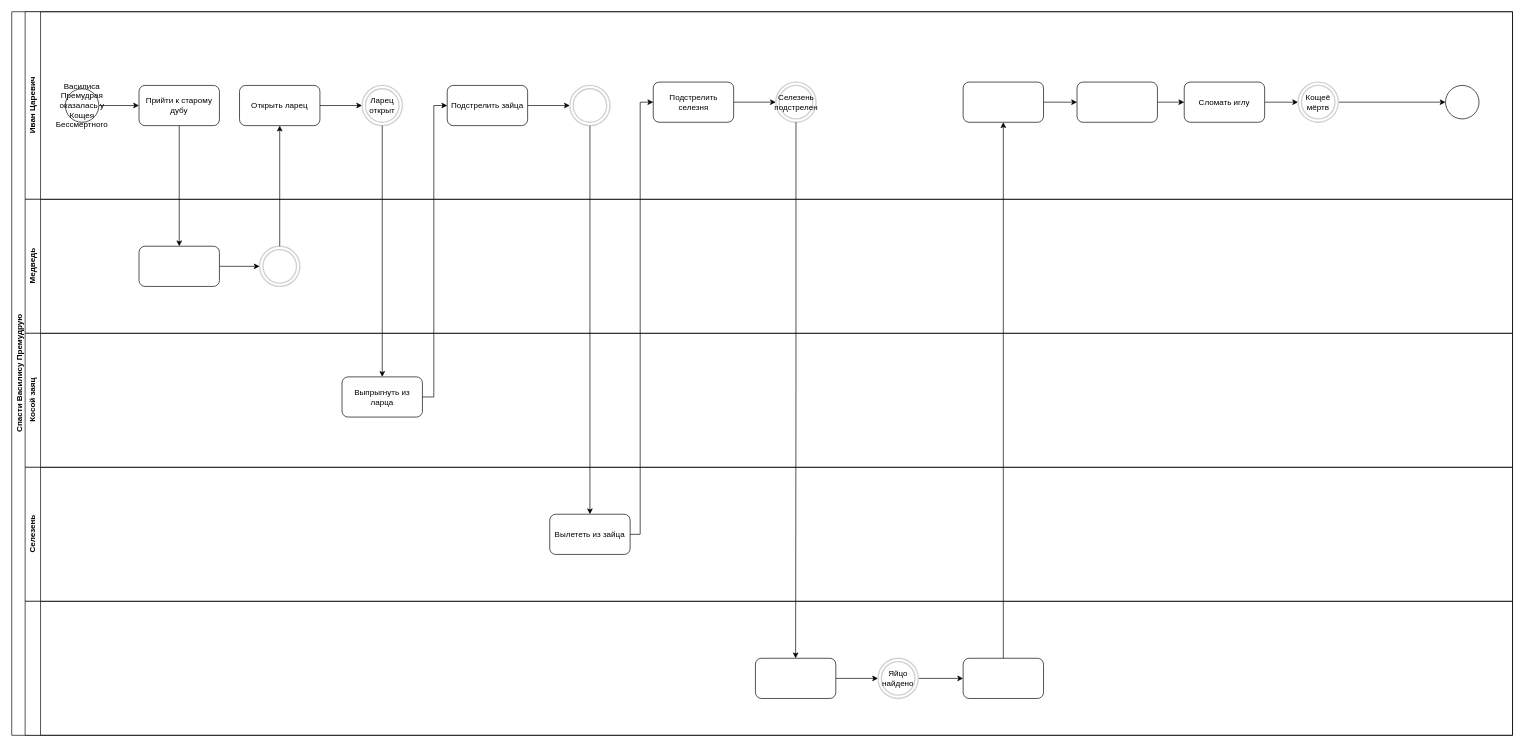
Image size: 1524x747. Some labels were removed from this diagram. The shapes that lost their labels are listed below. From the top down, each one's box as (x1, y1, x2, y2) in pixels, then its label:
(569, 84, 610, 126): Заяц подстрелен
(962, 81, 1044, 122): Разбить яйцо
(1076, 81, 1157, 122): Достать иглу
(1445, 85, 1479, 119): Василиса премудрая свободна
(138, 246, 219, 286): Вырвать дуб с корнем
(259, 245, 300, 287): Ларец упал
(24, 601, 1513, 735): Щука
(755, 658, 836, 698): Найти выпавшее яйцо в море
(962, 658, 1044, 698): Вернуть яйцо Ивану
